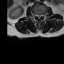CCS_stenosis: (38, 13, 40, 20)
LFS_stenosis: (41, 13, 43, 18)
LLS_stenosis: (40, 13, 41, 19)
RFS_normal: (34, 13, 36, 17)
RLS_normal: (36, 13, 38, 19)
